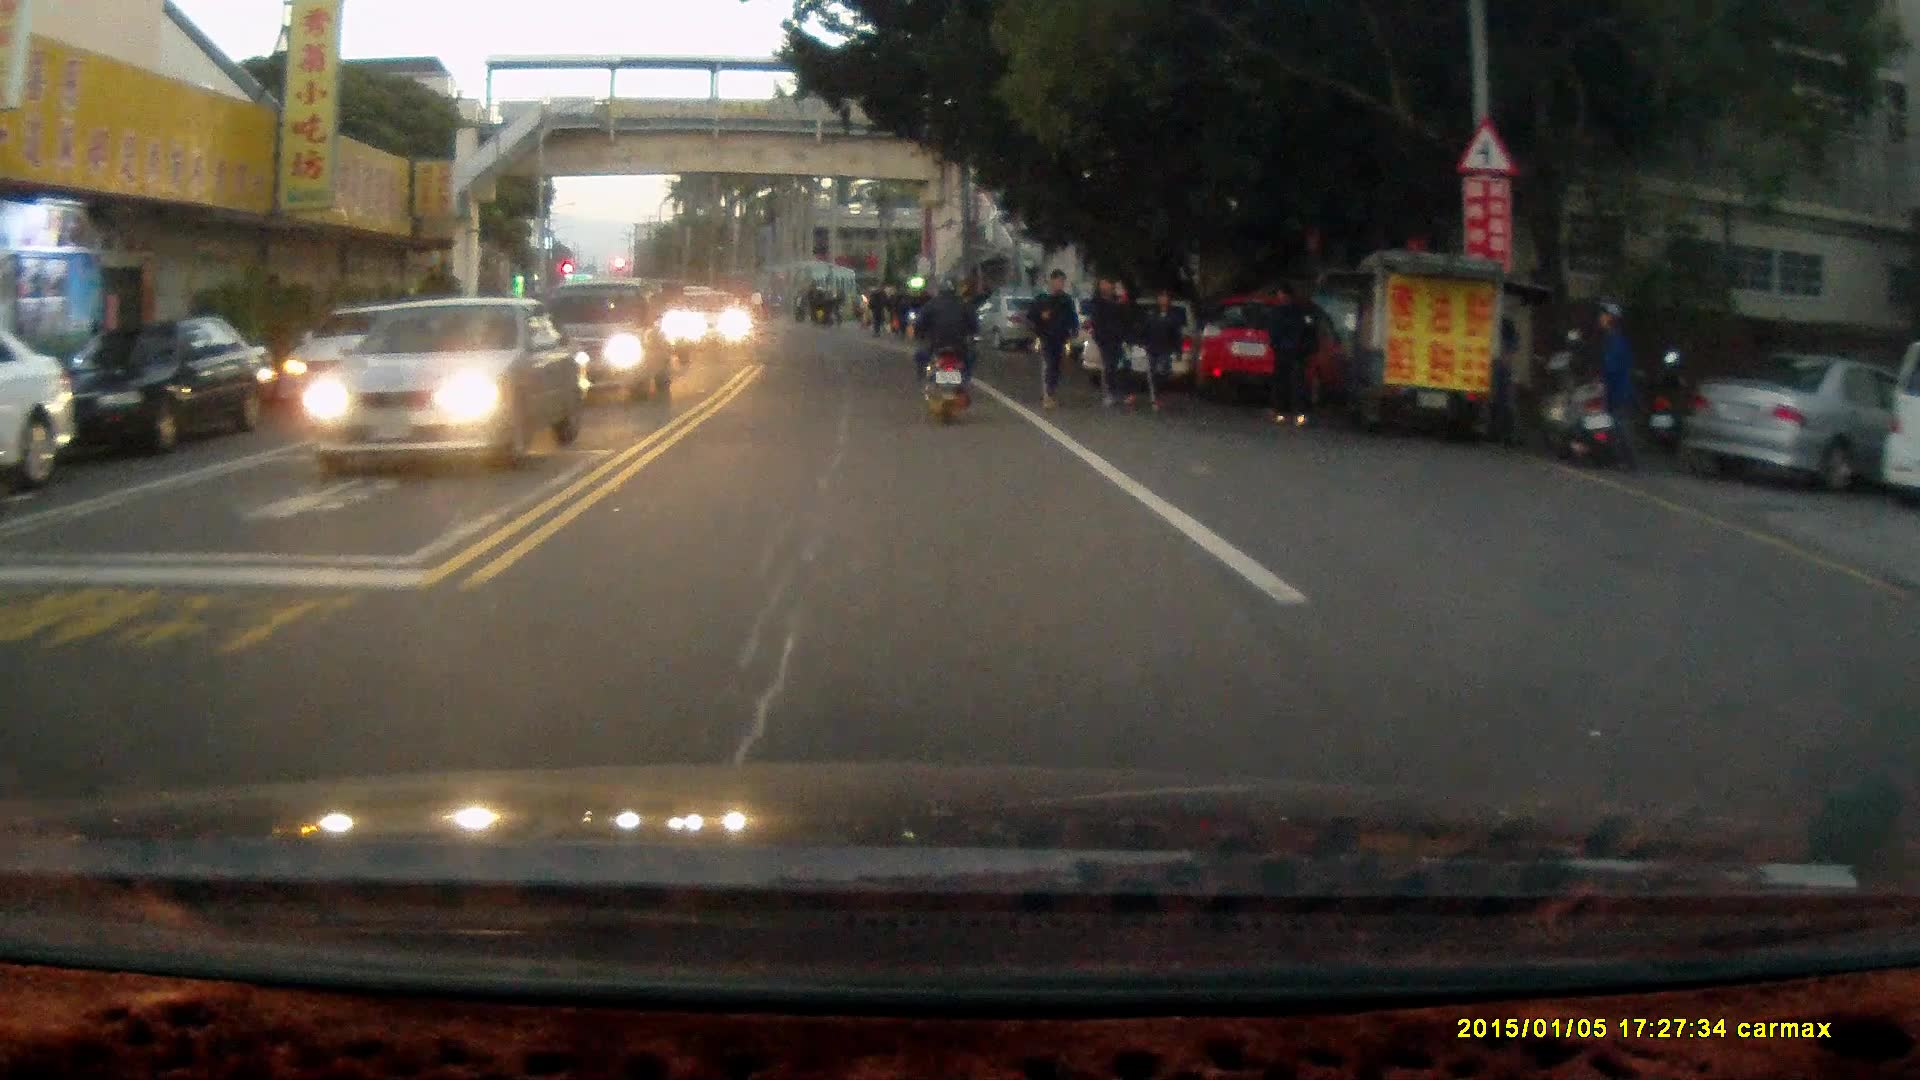pedestrian: (1259, 277, 1321, 432), (1589, 280, 1645, 453), (1026, 263, 1081, 411), (1141, 284, 1190, 417), (1089, 272, 1128, 410)
rider: (907, 274, 985, 430)
vehicle: (304, 295, 582, 467), (1686, 351, 1920, 497), (61, 310, 269, 449), (1192, 293, 1348, 406), (540, 278, 673, 407), (1, 323, 82, 487), (975, 294, 1061, 356), (673, 289, 753, 352)
